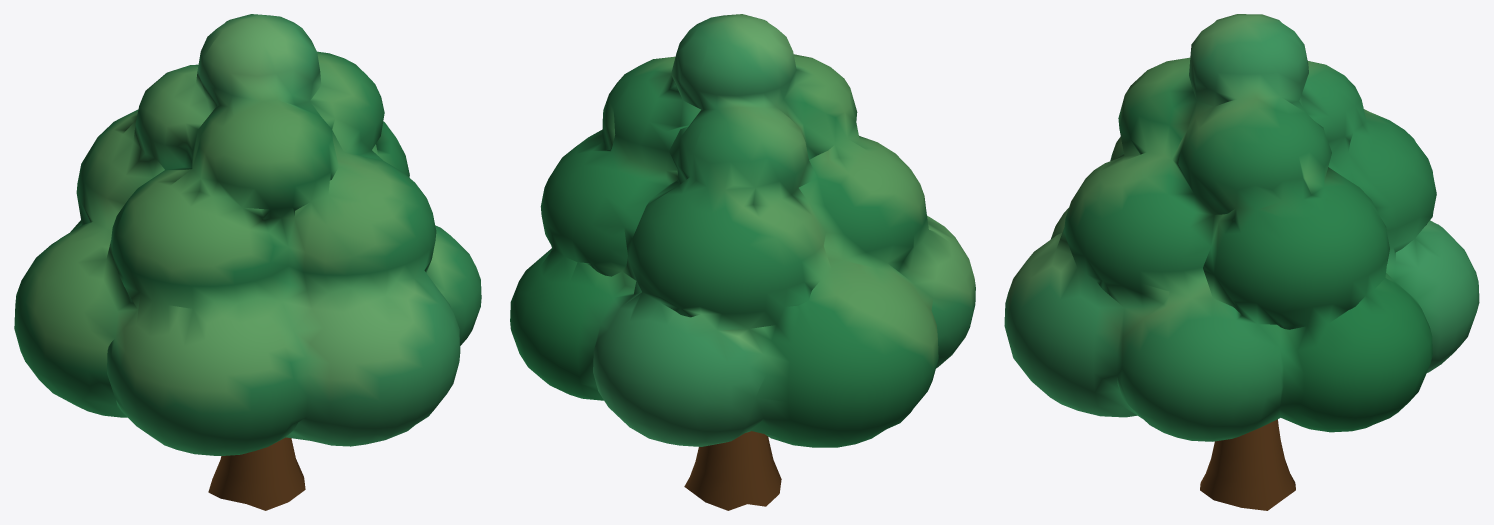
Rendered from pine-tree-115-lod1.obj.
The picture shows the model from 3 angles, left to right: view 1: azimuth 30°, elevation 25°; view 2: azimuth 150°, elevation 25°; view 3: azimuth 270°, elevation 25°; orthographic projection.
Visible parts, largest first — view 1: simplified; view 2: simplified; view 3: simplified.
Boxes of the visible parts, x1,y1,x2,y2 form: simplified: (14, 14, 481, 510); simplified: (510, 14, 975, 510); simplified: (1004, 14, 1479, 510).
Size of the model in its own units: 245 by 276 by 252.
